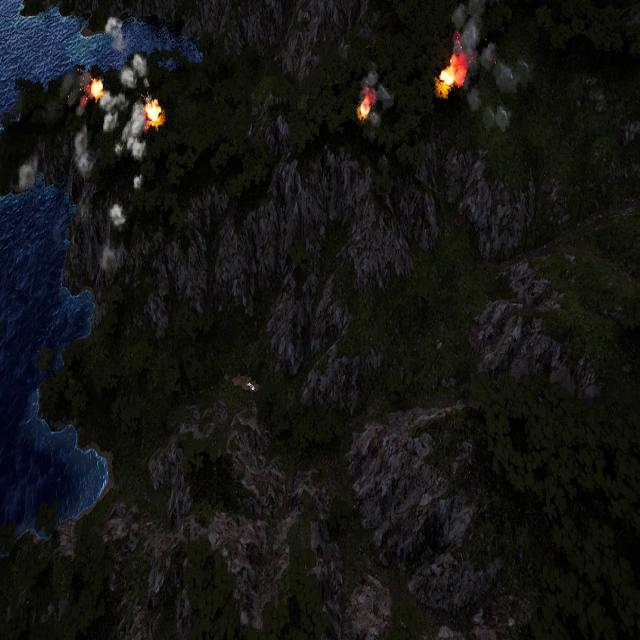fire: (437, 53, 468, 97), (144, 98, 164, 128), (356, 95, 372, 122), (90, 78, 104, 102)
smoke: (59, 15, 152, 279), (451, 1, 531, 137), (358, 68, 392, 132), (15, 147, 42, 195)
